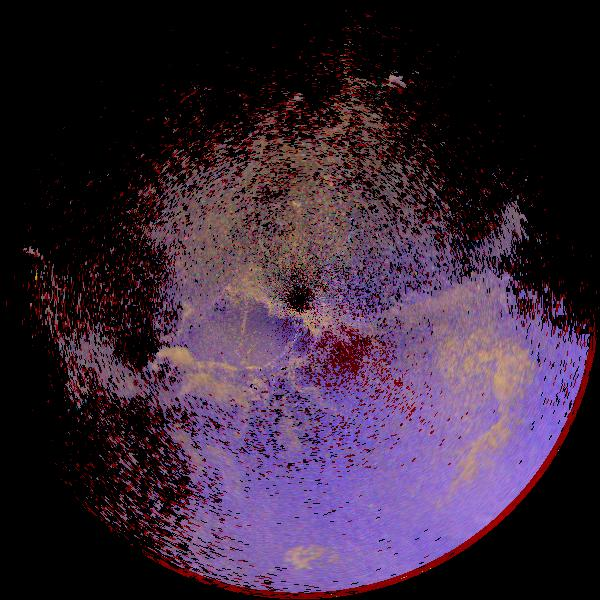roost: (143, 338, 203, 398), (149, 429, 209, 489), (173, 365, 230, 422)
